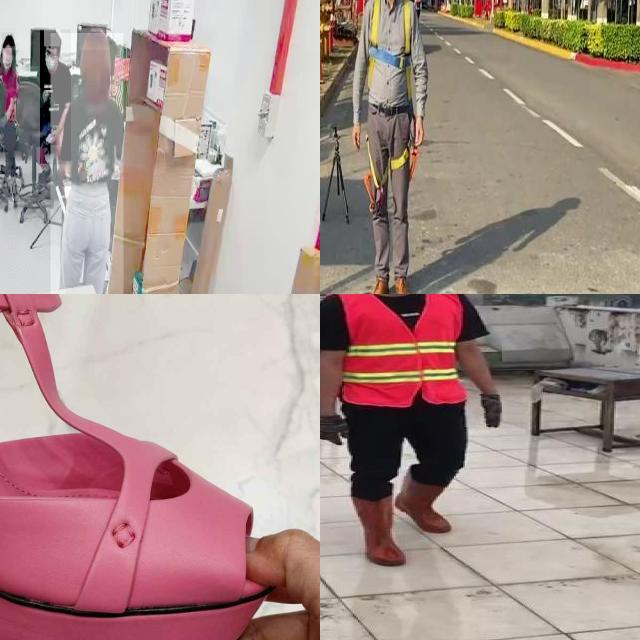Harness: (368, 0, 413, 100), (364, 138, 419, 214)
Sandals: (0, 294, 271, 640)
boots: (347, 495, 408, 566), (397, 465, 454, 533)
face_mask: (44, 47, 58, 74)
face_nomask: (2, 48, 12, 64)
hand_noglove: (50, 127, 60, 146)
head_nohelmet: (80, 28, 110, 50), (44, 30, 61, 48), (2, 32, 15, 47)
person: (320, 294, 505, 575), (50, 33, 123, 294), (40, 29, 71, 164), (0, 28, 18, 201)
vest: (333, 294, 467, 405)
